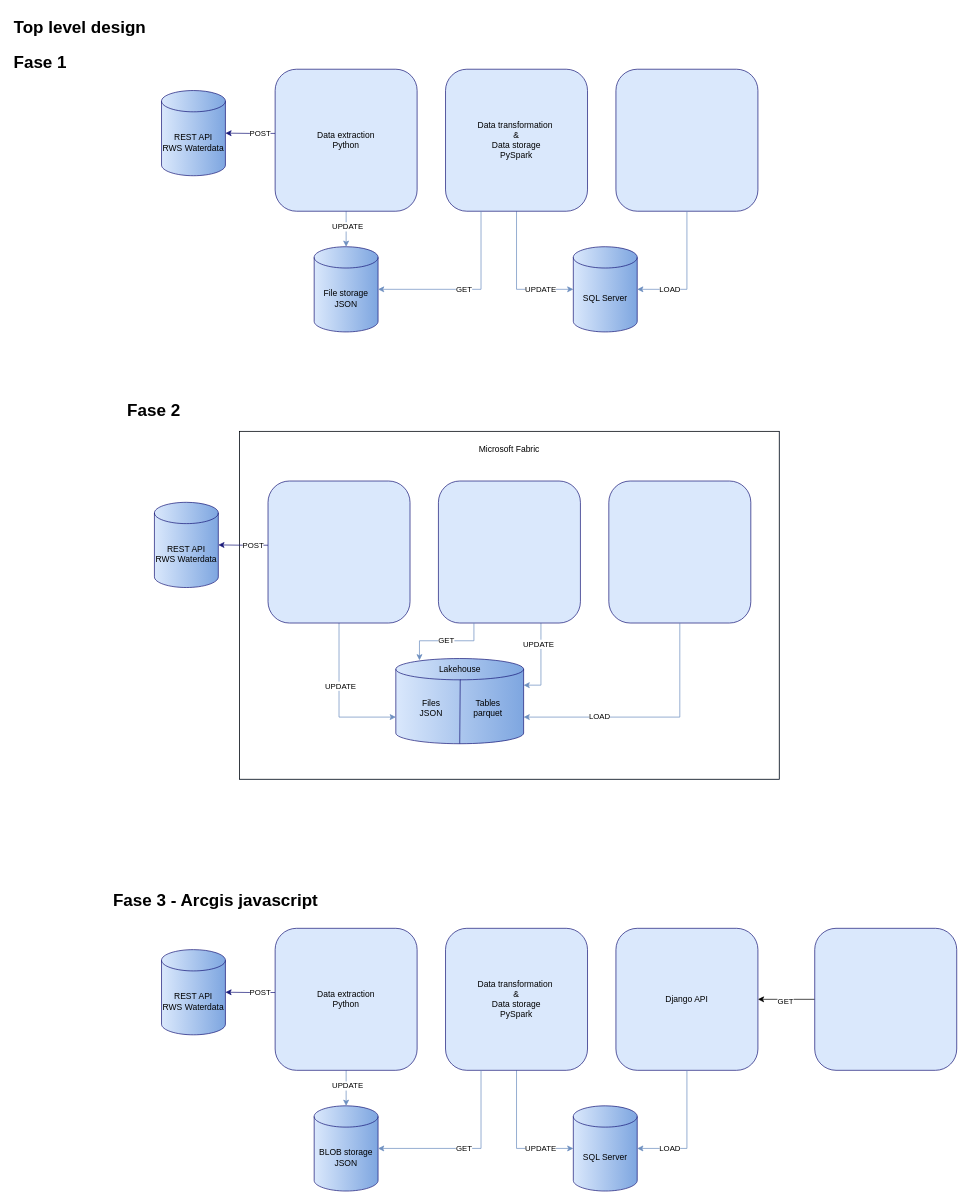
The diagram is 969 pixels wide and 1203 high, and some of its shapes have lost their labels. The shapes that lost their labels are listed below. From the top down, each one's box as (x1, y1, x2, y2) in pixels, then its label:
(615, 69, 758, 211): User interface PowerBI ArcGIS
(267, 480, 410, 623): Data extraction Data Ingest notebook Python
(438, 480, 580, 623): Data transformation Data Transform notebook PySpark
(608, 480, 751, 623): Report PowerBI ArcGIS
(814, 928, 957, 1070): Data visualisation Arcgis Javascript API
